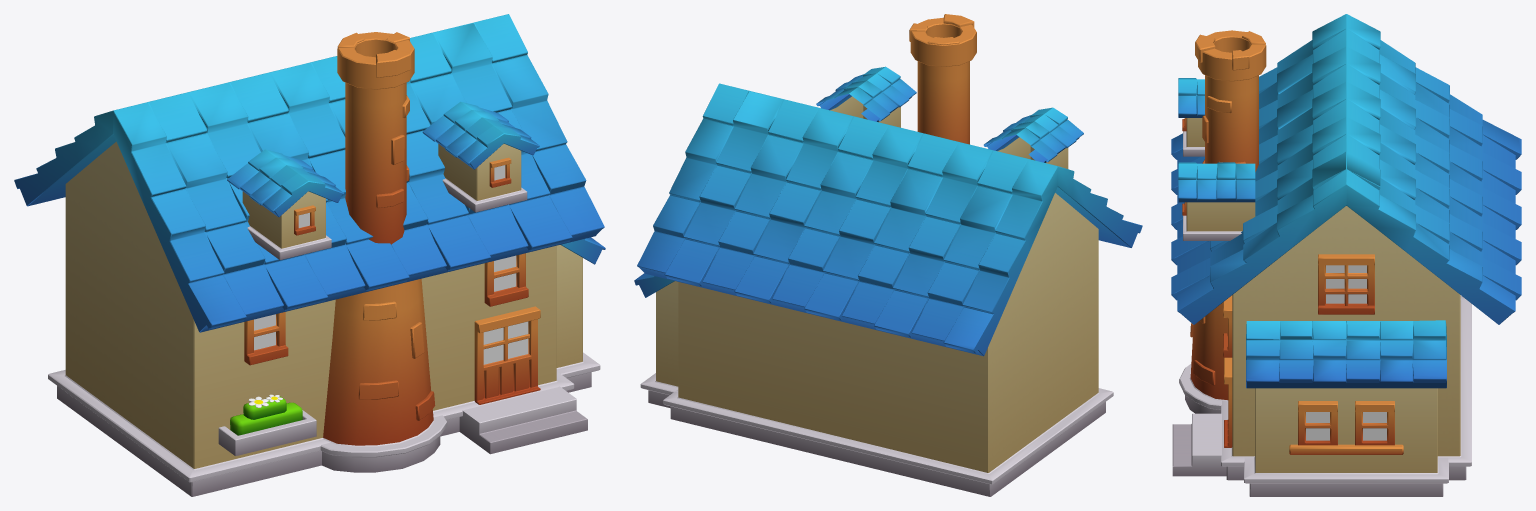
File: Building-House.fbx
3 renders of one model, left to right at view 1: azimuth 30°, elevation 25°; view 2: azimuth 150°, elevation 25°; view 3: azimuth 270°, elevation 25°, orthographic. The views are drawn at different scales.
Visible parts, largest first — view 1: Building_House, Chimney, Vase, Flower; view 2: Building_House, Chimney; view 3: Building_House, Chimney.
Part boxes in pixels (<box>): Building_House: <box>14,14,605,496</box>; Chimney: <box>337,32,414,244</box>; Vase: <box>218,410,316,455</box>; Flower: <box>230,394,302,435</box>; Building_House: <box>634,66,1142,496</box>; Chimney: <box>909,14,976,144</box>; Building_House: <box>1171,14,1521,496</box>; Chimney: <box>1195,30,1266,171</box>.
Size of the model in its own units: 785 by 692 by 615.
